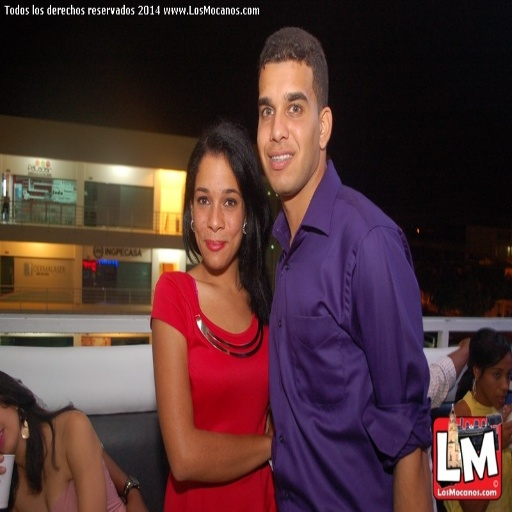hand: (500, 401, 511, 453), (459, 335, 472, 363), (125, 494, 146, 510)
